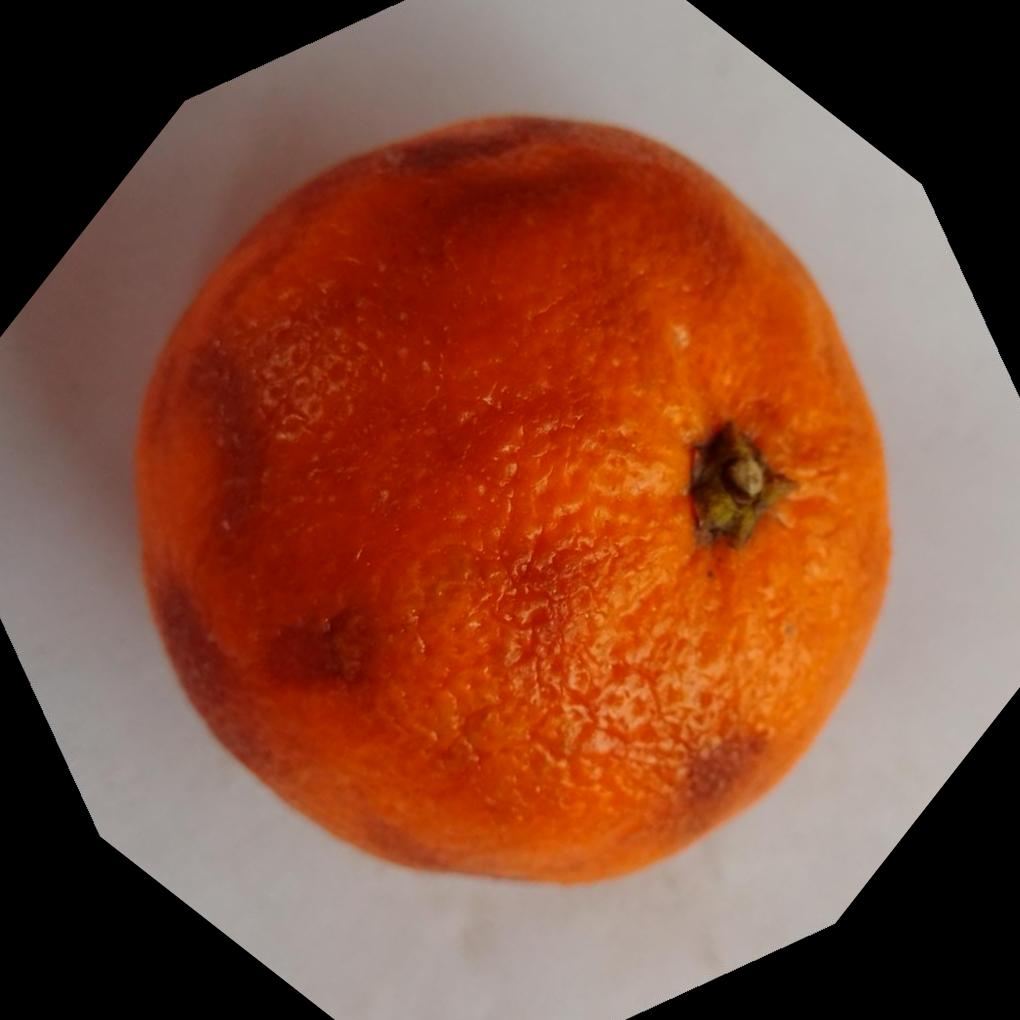FreshOrange: (128, 108, 892, 887)
